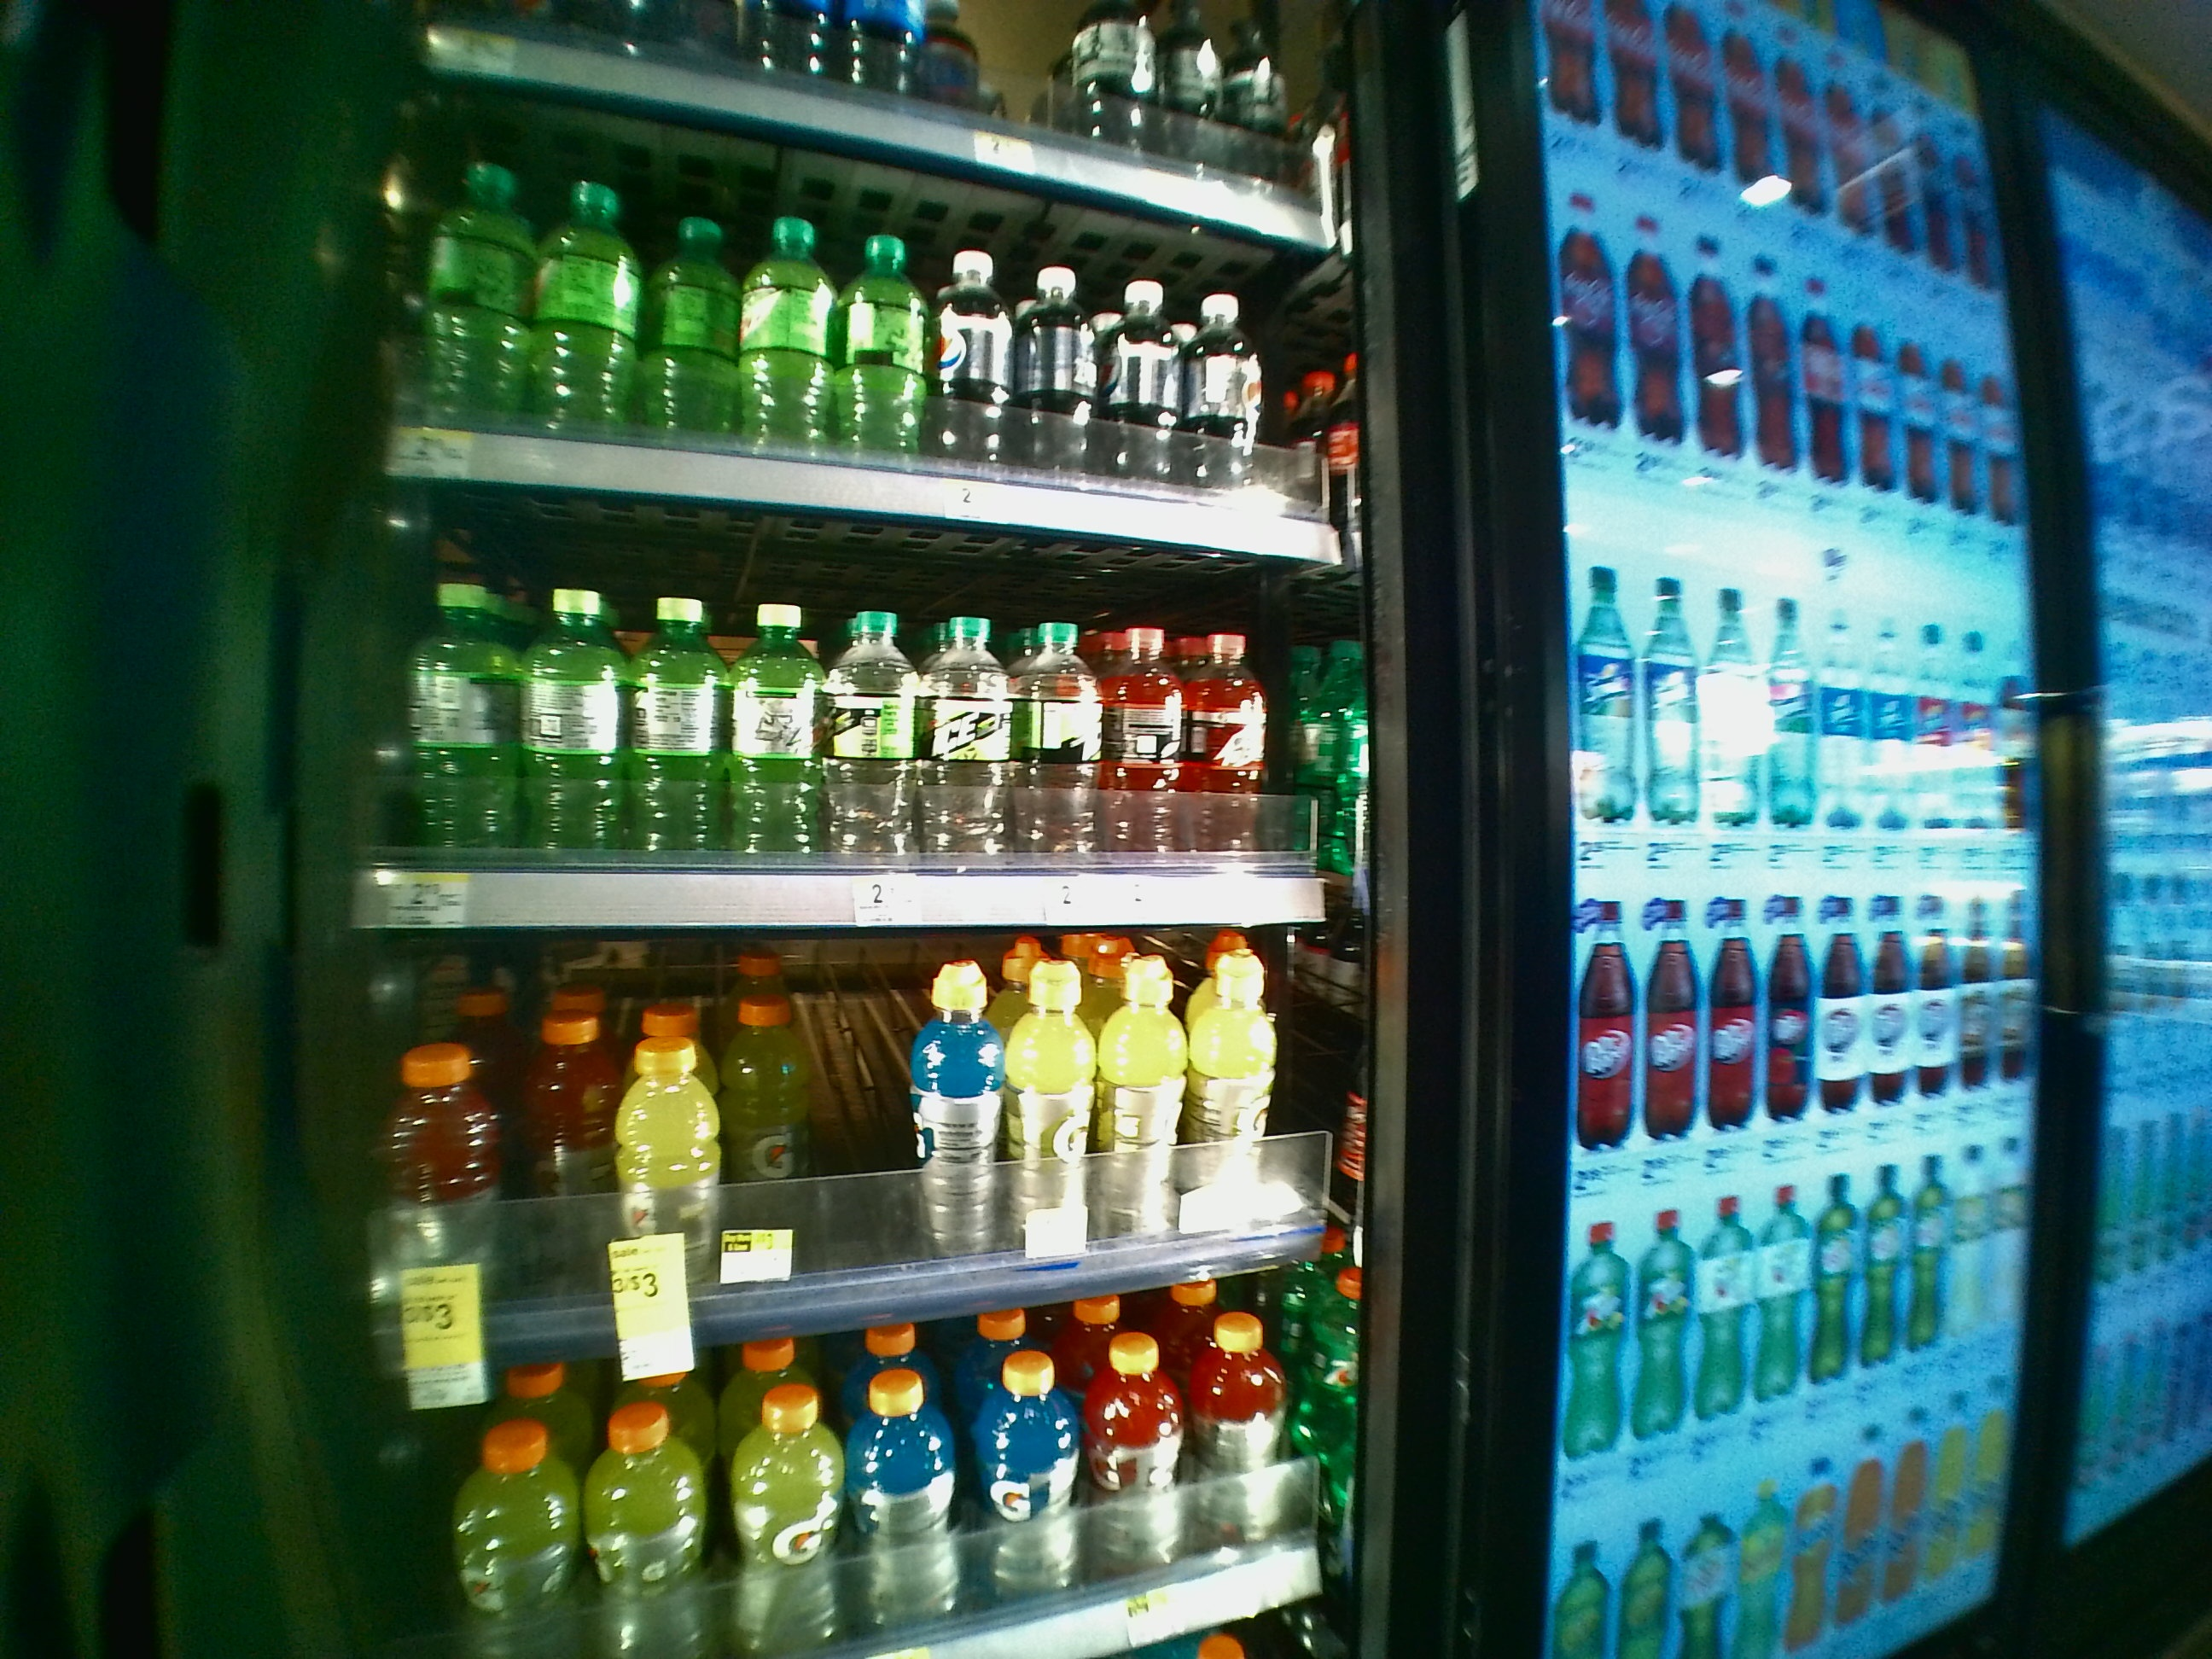shelf: (369, 471, 1392, 931)
